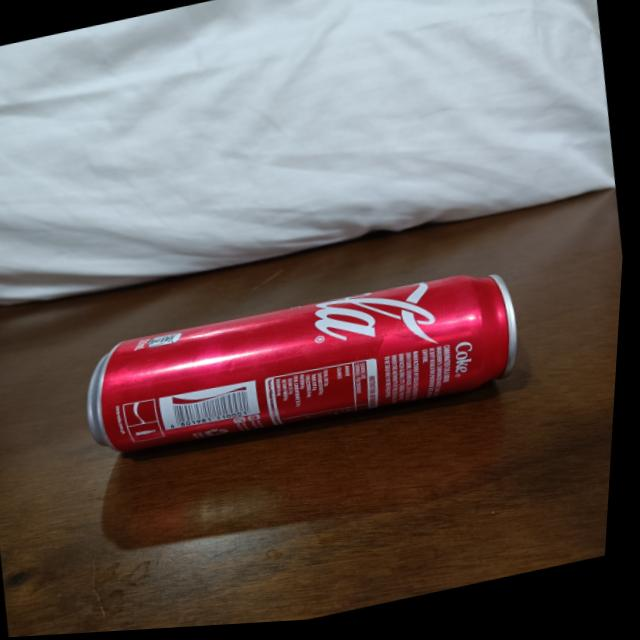coke: (87, 267, 534, 463)
